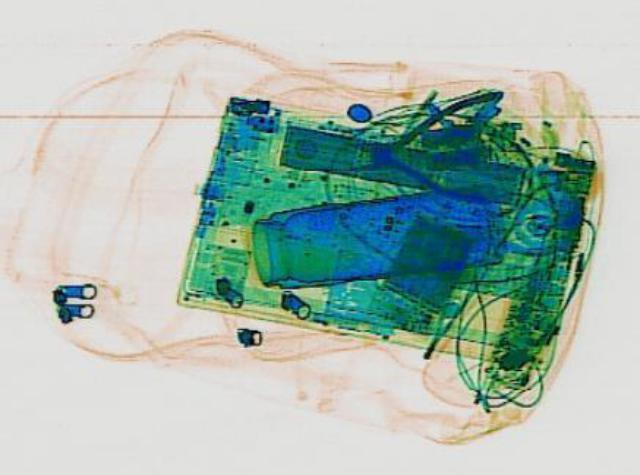Pliers: (338, 89, 510, 205)
